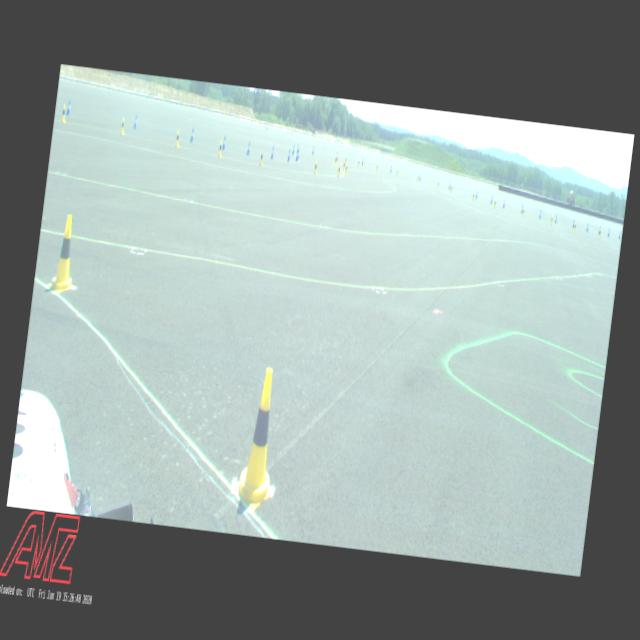blue_cone: (66, 100, 71, 115), (246, 141, 251, 155), (133, 115, 138, 128), (190, 128, 194, 142), (270, 146, 274, 159), (222, 136, 226, 149), (296, 148, 300, 160), (287, 148, 290, 160), (586, 222, 589, 232), (502, 198, 505, 208), (572, 218, 575, 227), (554, 214, 557, 223), (520, 204, 523, 213), (538, 210, 541, 218), (448, 182, 451, 190), (296, 150, 298, 161), (389, 165, 392, 172), (418, 173, 421, 180), (292, 145, 294, 154), (296, 144, 298, 153), (490, 195, 492, 203), (312, 146, 314, 154), (618, 230, 620, 238), (476, 190, 478, 198), (336, 152, 338, 160), (608, 228, 610, 235), (361, 158, 363, 165), (598, 226, 600, 233)
yellow_cone: (231, 366, 285, 511), (48, 214, 82, 292), (174, 129, 180, 146), (60, 104, 66, 121), (120, 116, 125, 134), (259, 148, 264, 164), (336, 163, 341, 176), (218, 140, 222, 156), (313, 160, 317, 174), (344, 162, 347, 175), (334, 155, 337, 165), (493, 198, 496, 208), (342, 160, 345, 170), (357, 158, 360, 166), (598, 228, 600, 238), (336, 154, 338, 164), (472, 191, 474, 200), (574, 222, 576, 231), (344, 156, 346, 165), (522, 207, 524, 216), (550, 216, 552, 224), (396, 168, 398, 176), (436, 180, 438, 188), (450, 184, 452, 192), (376, 163, 378, 171), (416, 175, 418, 182)
